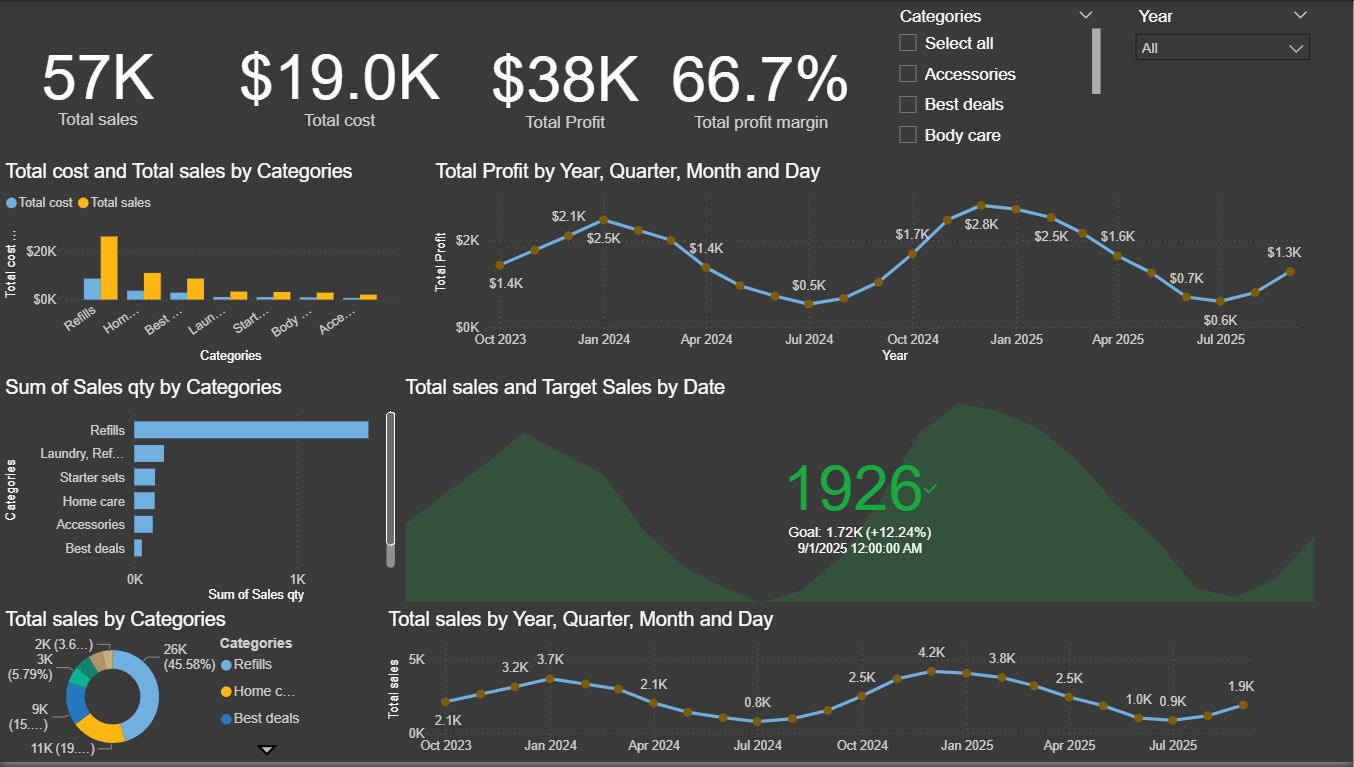

The page's visual inventory and layout, read from the dashboard file:
{"tool":"powerbi","page":{"name":"Page 1","canvas":[1280,720],"ordinal":0},"visuals":[{"type":"card","fields":{"Values":["Table.Total sales"]},"box":[0,0,185.1,150.4],"z":0},{"type":"card","fields":{"Values":["Table.Total cost"]},"box":[217.4,0,207.2,150.7],"z":1000},{"type":"card","fields":{"Values":["Table.Total Profit"]},"box":[442,1.4,185.5,150.7],"z":2000},{"type":"card","fields":{"Values":["Table.Total profit margin"]},"box":[627.5,1.4,185.5,150.7],"z":3000},{"type":"slicer","fields":{"Values":["Dropco stock movements w sales campains.Categories"]},"box":[838.4,1.4,207.9,150.8],"z":4000},{"type":"slicer","fields":{"Values":["Date table.Year"]},"box":[1063.9,1.4,184.8,149.5],"z":5000},{"type":"clusteredColumnChart","fields":{"Y":["Table.Total cost","Table.Total sales"],"Category":["Dropco stock movements w sales campains.Categories"]},"box":[0,150.5,378.6,197.1],"z":6000},{"type":"lineChart","fields":{"Y":["Table.Total Profit"],"Category":["Date table.Date.Variation.Date Hierarchy.Year","Date table.Date.Variation.Date Hierarchy.Quarter","Date table.Date.Variation.Date Hierarchy.Month","Date table.Date.Variation.Date Hierarchy.Day"]},"box":[406.8,150.5,841.7,197.1],"z":7000},{"type":"barChart","fields":{"Category":["Dropco stock movements w sales campains.Categories"],"Y":["Sum(Dropco stock movements w sales campains.Sales qty)"]},"box":[0,354.4,378.6,219.4],"z":8000},{"type":"kpi","fields":{"TrendLine":["Date table.Date"],"Goal":["Table.Target Sales"],"Indicator":["Table.Total sales"]},"box":[378.6,354.4,869.9,219.4],"z":9000},{"type":"donutChart","fields":{"Category":["Dropco stock movements w sales campains.Categories"],"Y":["Table.Total sales"]},"box":[0,573.8,300,146.6],"z":10000},{"type":"lineChart","fields":{"Y":["Table.Total sales"],"Category":["Date table.Date.Variation.Date Hierarchy.Year","Date table.Date.Variation.Date Hierarchy.Quarter","Date table.Date.Variation.Date Hierarchy.Month","Date table.Date.Variation.Date Hierarchy.Day"]},"box":[362.1,573.8,841.7,146.6],"z":11000}]}

Visuals, with their boxes in screenshot pixels (x1, y1, x2, y2), scaled from the page's 1280x720 canvas onto the 1354x767 screenshot:
card - Table.Total sales: {"left": 0, "top": 0, "right": 196, "bottom": 160}
card - Table.Total cost: {"left": 230, "top": 0, "right": 449, "bottom": 161}
card - Table.Total Profit: {"left": 468, "top": 1, "right": 664, "bottom": 162}
card - Table.Total profit margin: {"left": 664, "top": 1, "right": 860, "bottom": 162}
slicer - Dropco stock movements w sales campains.Categories: {"left": 887, "top": 1, "right": 1107, "bottom": 162}
slicer - Date table.Year: {"left": 1125, "top": 1, "right": 1321, "bottom": 161}
clusteredColumnChart - Table.Total cost x Table.Total sales: {"left": 0, "top": 160, "right": 400, "bottom": 370}
lineChart - Table.Total Profit x Date table.Date.Variation.Date Hierarchy.Year: {"left": 430, "top": 160, "right": 1321, "bottom": 370}
barChart - Dropco stock movements w sales campains.Categories x Sum(Dropco stock movements w sales campains.Sales qty): {"left": 0, "top": 378, "right": 400, "bottom": 611}
kpi - Date table.Date x Table.Target Sales: {"left": 400, "top": 378, "right": 1321, "bottom": 611}
donutChart - Dropco stock movements w sales campains.Categories x Table.Total sales: {"left": 0, "top": 611, "right": 317, "bottom": 766}
lineChart - Table.Total sales x Date table.Date.Variation.Date Hierarchy.Year: {"left": 383, "top": 611, "right": 1273, "bottom": 766}
